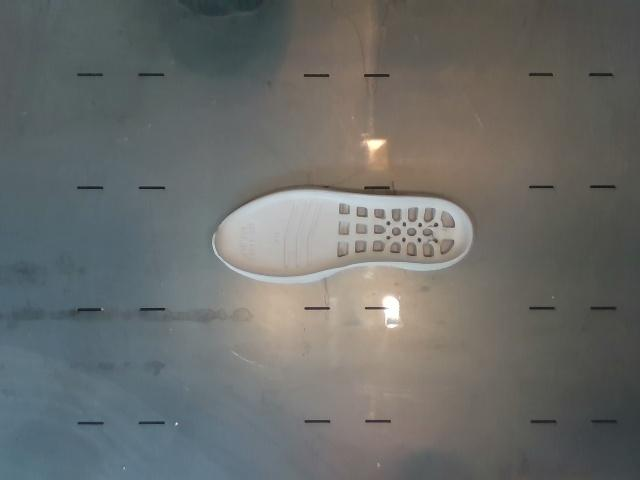shoes: (215, 191, 471, 278)
